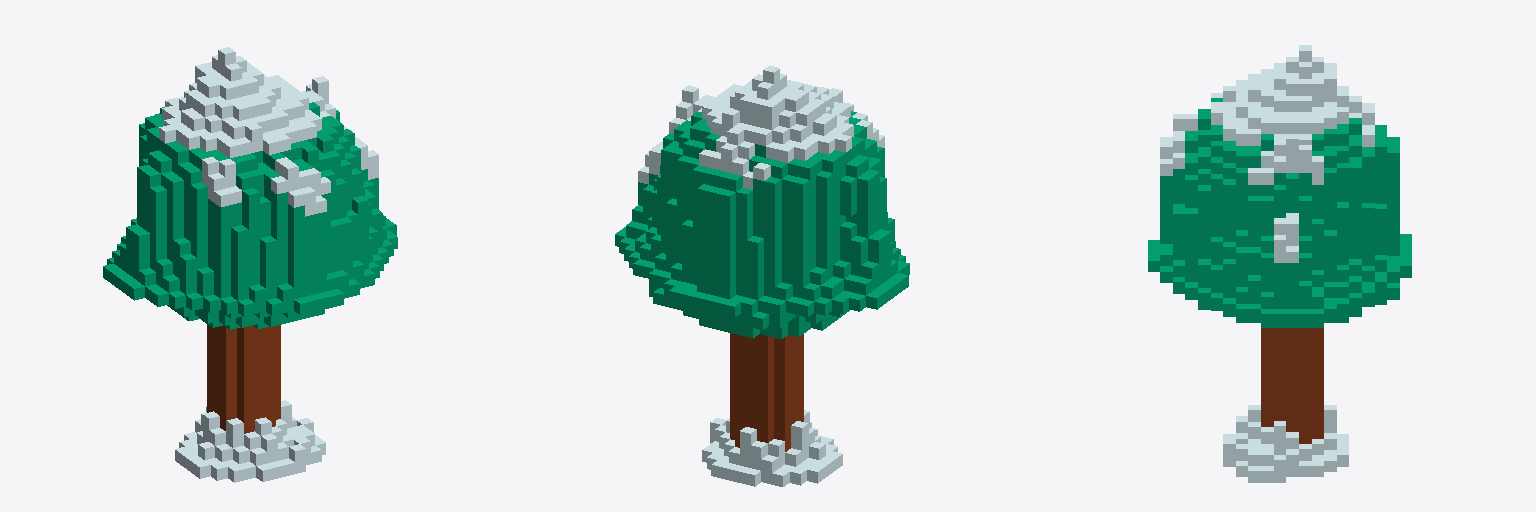
3 renders of one model, left to right at view 1: azimuth 30°, elevation 25°; view 2: azimuth 150°, elevation 25°; view 3: azimuth 270°, elevation 25°, orthographic.
Parts seen in each view (by area): view 1: Env_Obj_Clutter_Tree; view 2: Env_Obj_Clutter_Tree; view 3: Env_Obj_Clutter_Tree.
Boxes of the visible parts, x1=… form: Env_Obj_Clutter_Tree: x1=103, y1=47, x2=397, y2=482; Env_Obj_Clutter_Tree: x1=615, y1=66, x2=909, y2=486; Env_Obj_Clutter_Tree: x1=1148, y1=45, x2=1411, y2=482.
Bounding box in the file's own units: 2.4 × 3.5 × 2.1.
1 materials, 1 textured.